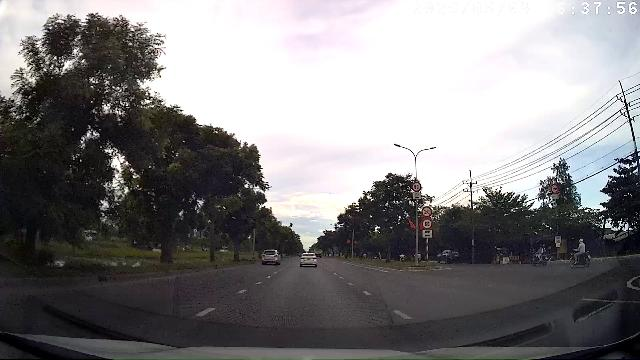127-toc-do-toi-da-60: (422, 218, 432, 229)
127-toc-do-toi-da-80: (411, 182, 422, 192)
